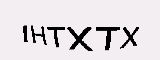І: (16, 20, 31, 43)
Н: (29, 23, 48, 45)
Т: (95, 20, 117, 51), (47, 22, 66, 49)
Х: (67, 21, 94, 53), (120, 23, 141, 48)
